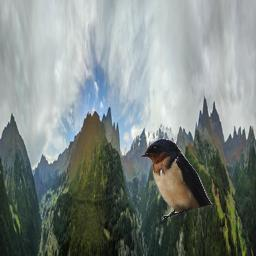Swallow: (139, 138, 213, 223)
